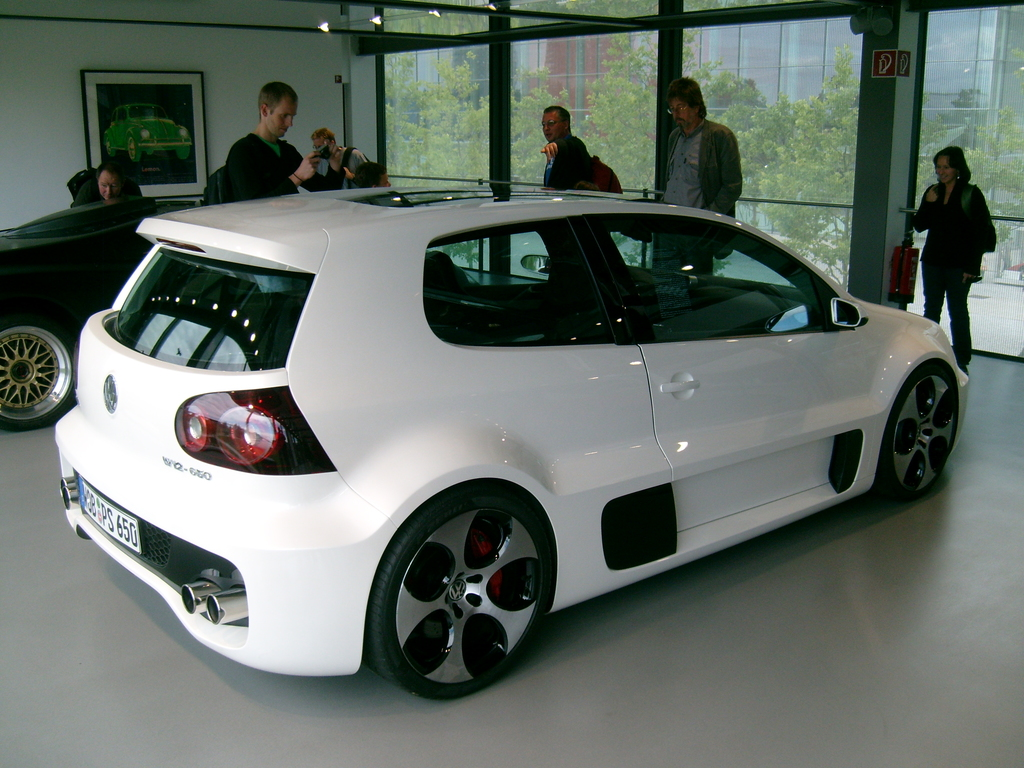Person: (906, 142, 994, 373), (222, 82, 341, 201), (351, 158, 393, 189)
